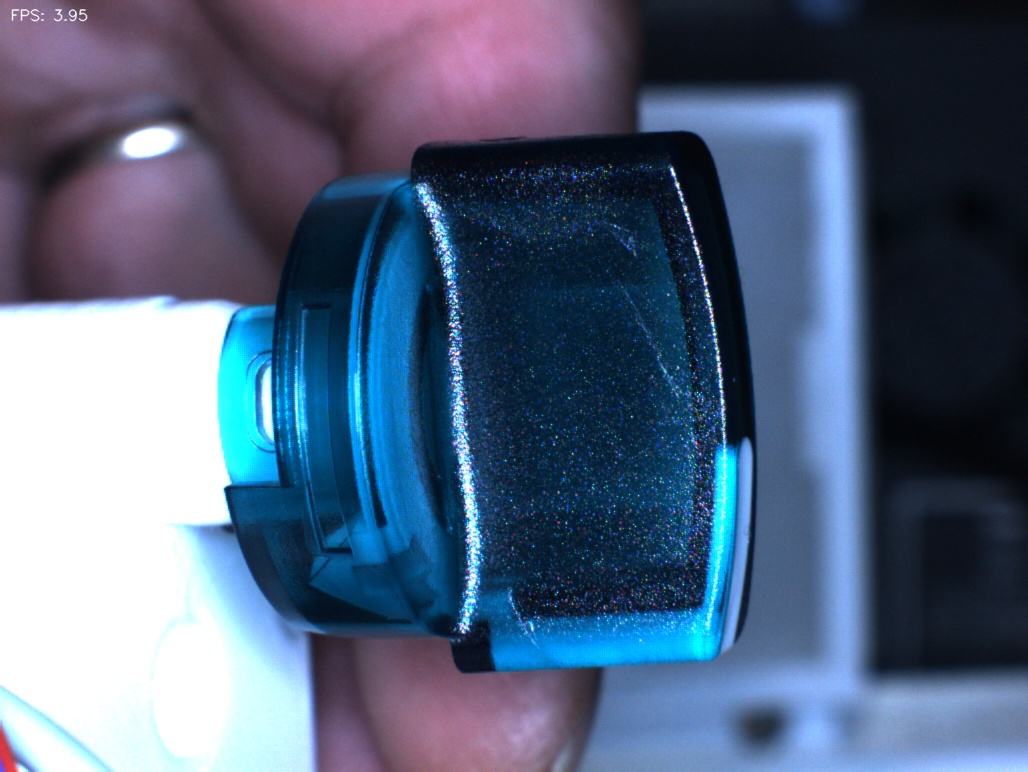Givrage: (588, 247, 719, 437)
